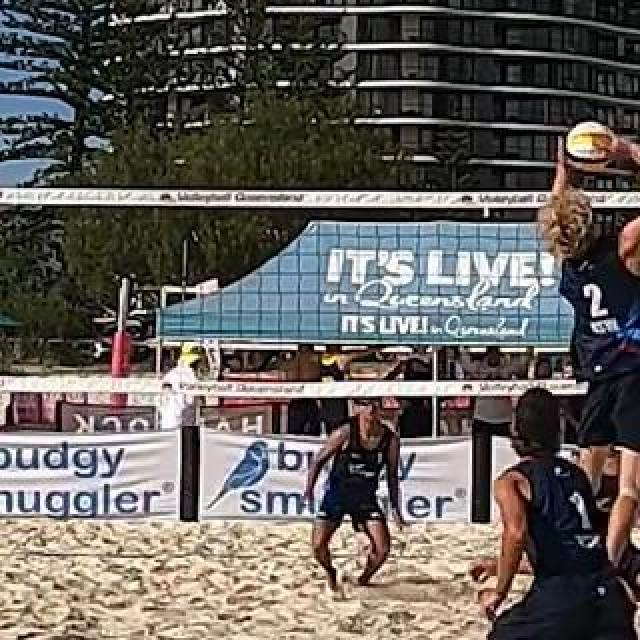volleyball: (566, 119, 616, 169)
